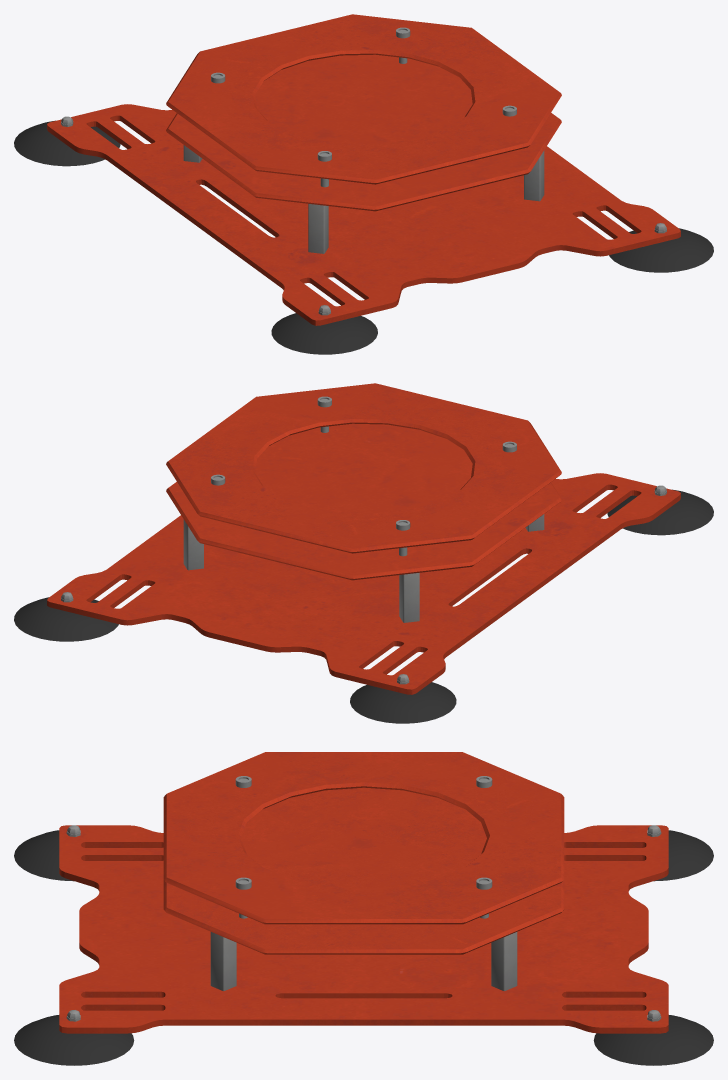
The model's file is armstand.gltf.
3 views of the same model, one above another, from view 1: azimuth 30°, elevation 25°; view 2: azimuth 150°, elevation 25°; view 3: azimuth 270°, elevation 25° (orthographic). The views are drawn at different scales.
Visible parts, largest first — view 1: Cone; view 2: Cone; view 3: Cone.
Part boxes in pixels (x1=…): Cone: x1=14, y1=14, x2=713, y2=354; Cone: x1=14, y1=383, x2=713, y2=723; Cone: x1=14, y1=752, x2=713, y2=1065.
Size of the model in its own units: 2.78 by 0.6496 by 3.49.
Materials: 3 (3 with a texture image).
